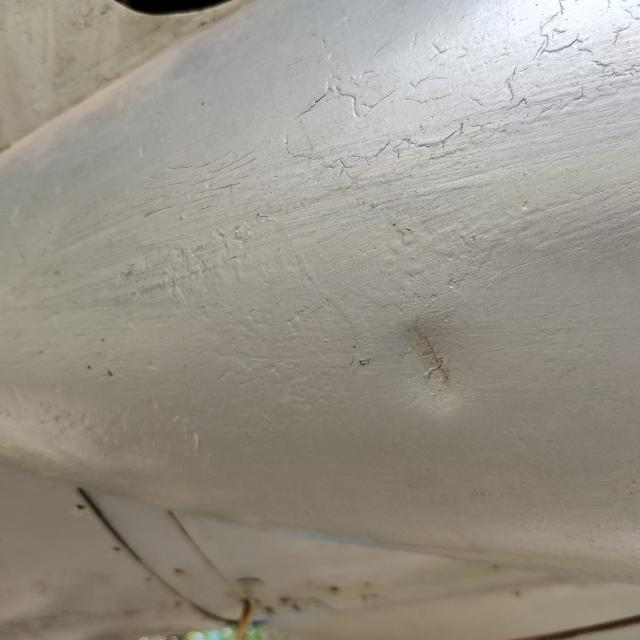dent: (373, 301, 495, 424)
